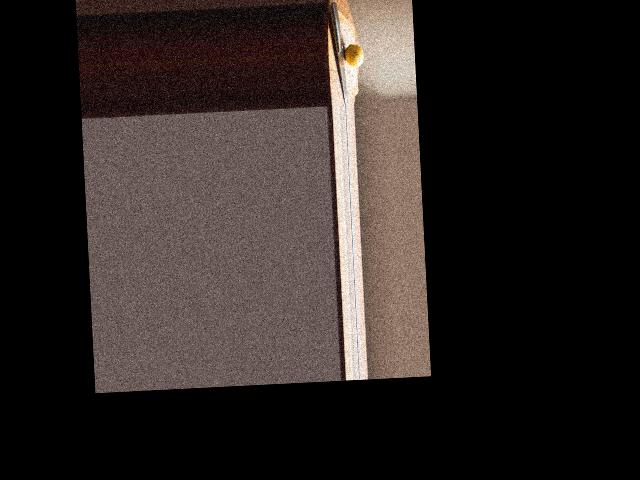lemon: (344, 41, 366, 68)
